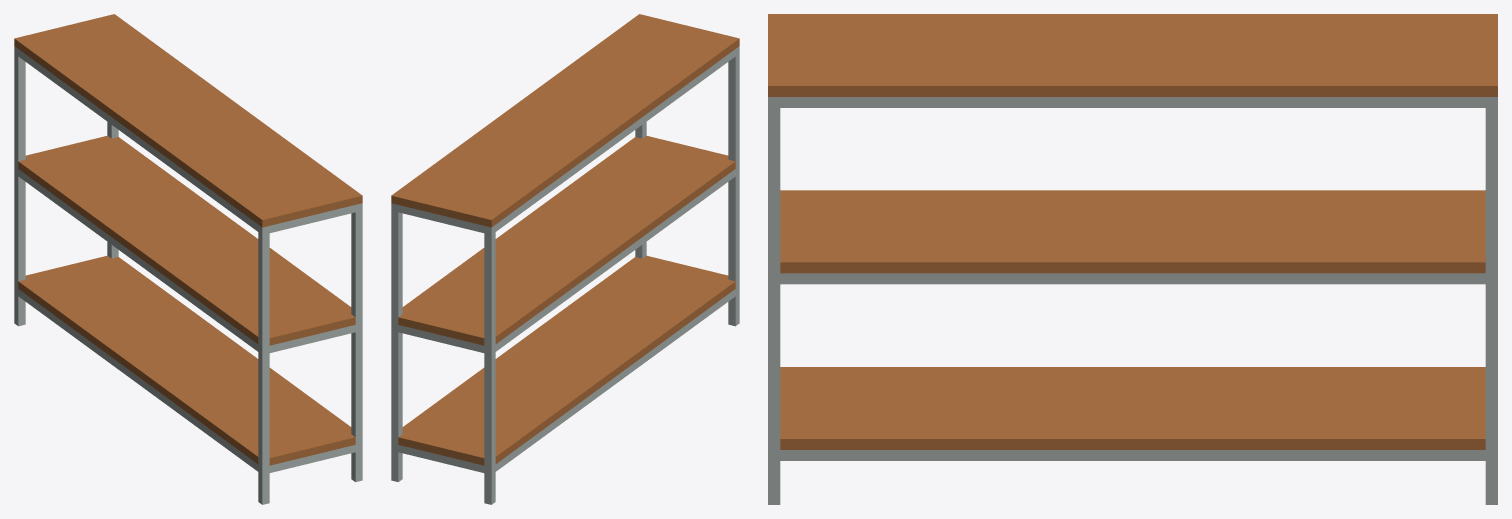
The model's file is shelves_04.dae.
The picture shows the model from 3 angles, left to right: view 1: azimuth 30°, elevation 25°; view 2: azimuth 150°, elevation 25°; view 3: azimuth 270°, elevation 25°; orthographic projection. The views are drawn at different scales.
Visible parts, largest first — view 1: Untitled; view 2: Untitled; view 3: Untitled.
Part boxes in pixels (<box>): Untitled: <box>14,14,362,504</box>; Untitled: <box>391,14,739,504</box>; Untitled: <box>768,14,1497,504</box>.
Bounding box in the file's own units: 0.42 × 1.8 × 1.14.
Materials: 1 (1 with a texture image).
